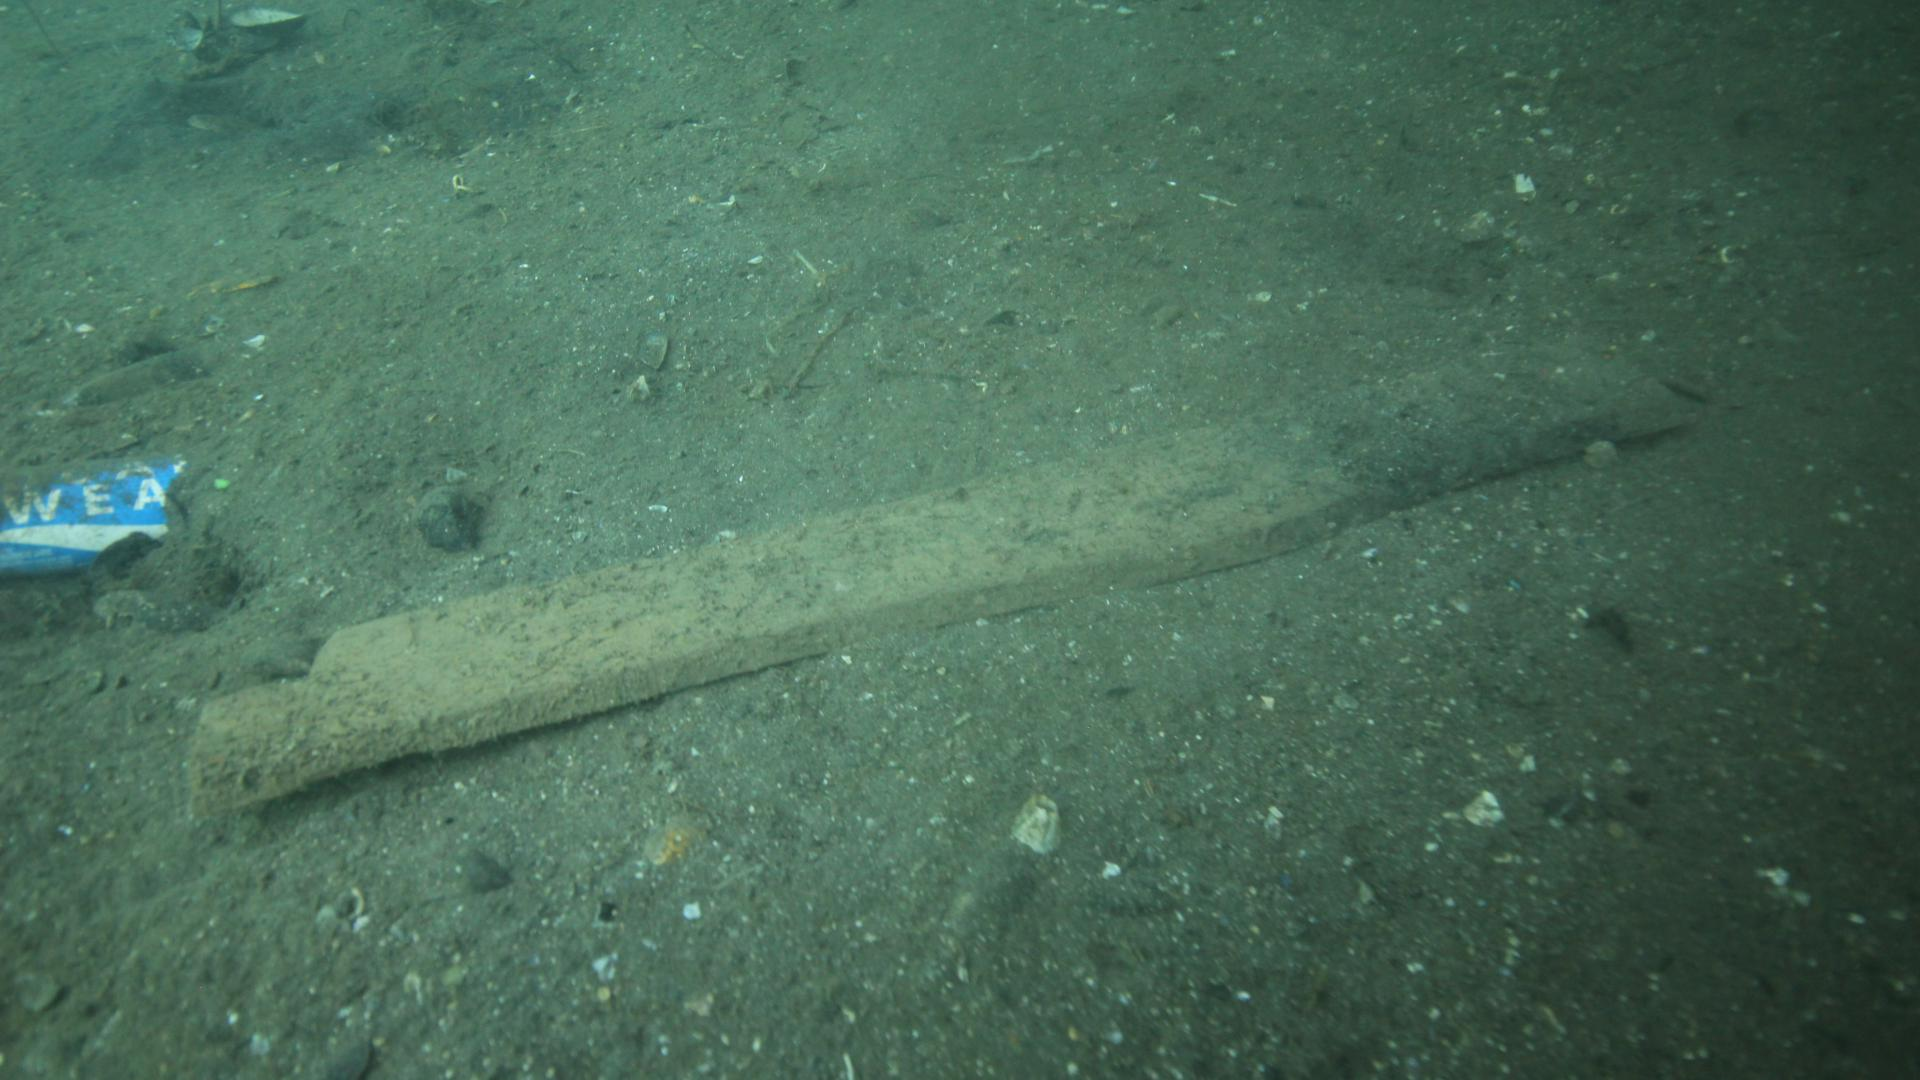wood: (182, 339, 1691, 823)
